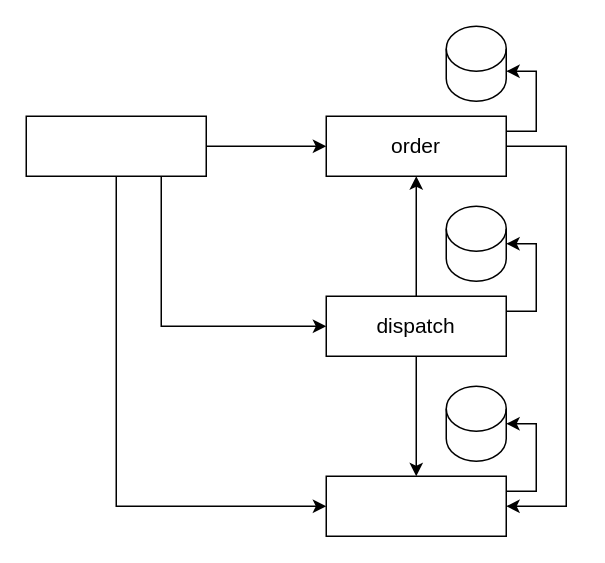
This 605x563 diagram has some shape labels left out. The shapes that lost their labels are listed below. From the top down, each one's centre as x and y in pixels, then its label:
At [115,145]: "store".
At [415,505]: "warehouse".
